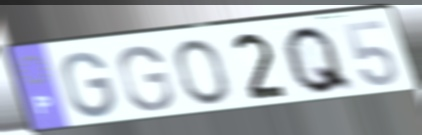2: (232, 31, 289, 101)
5: (340, 17, 400, 88)
G: (115, 43, 176, 113), (59, 49, 119, 120)
O: (172, 37, 232, 107)
Q: (281, 23, 359, 97)
